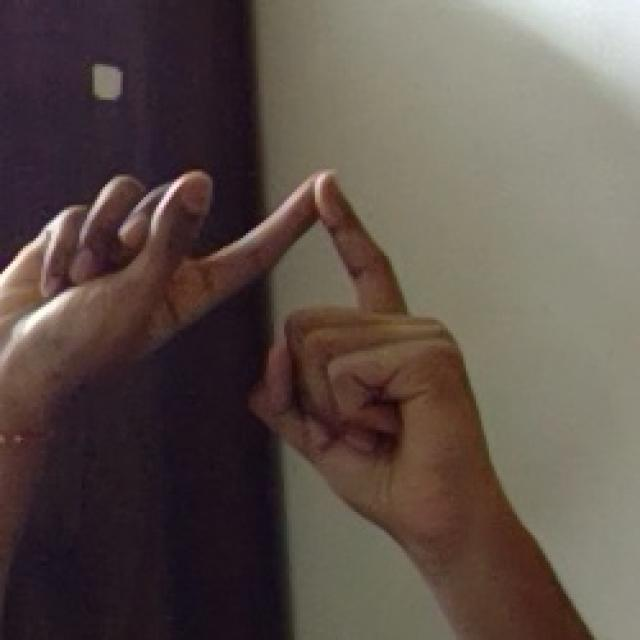Alphabet-E: (3, 172, 594, 640)
